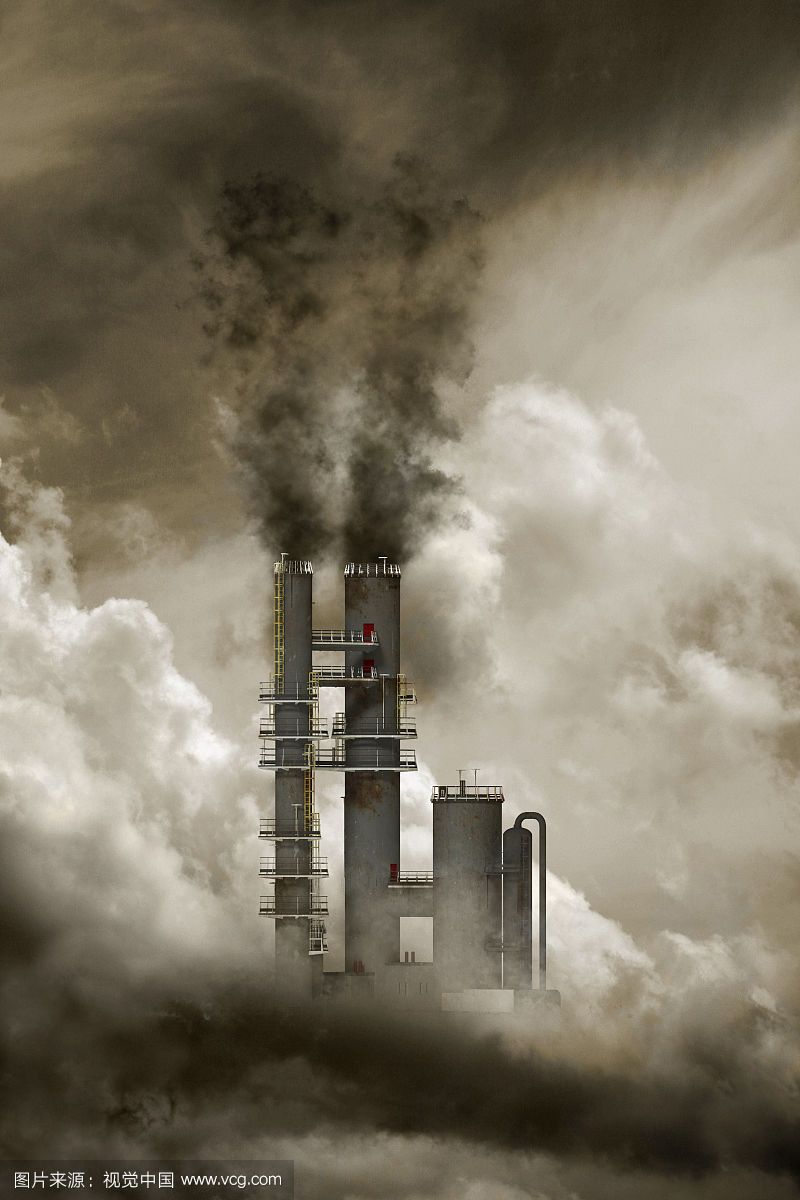dust: (152, 252, 341, 580), (326, 241, 485, 591)
